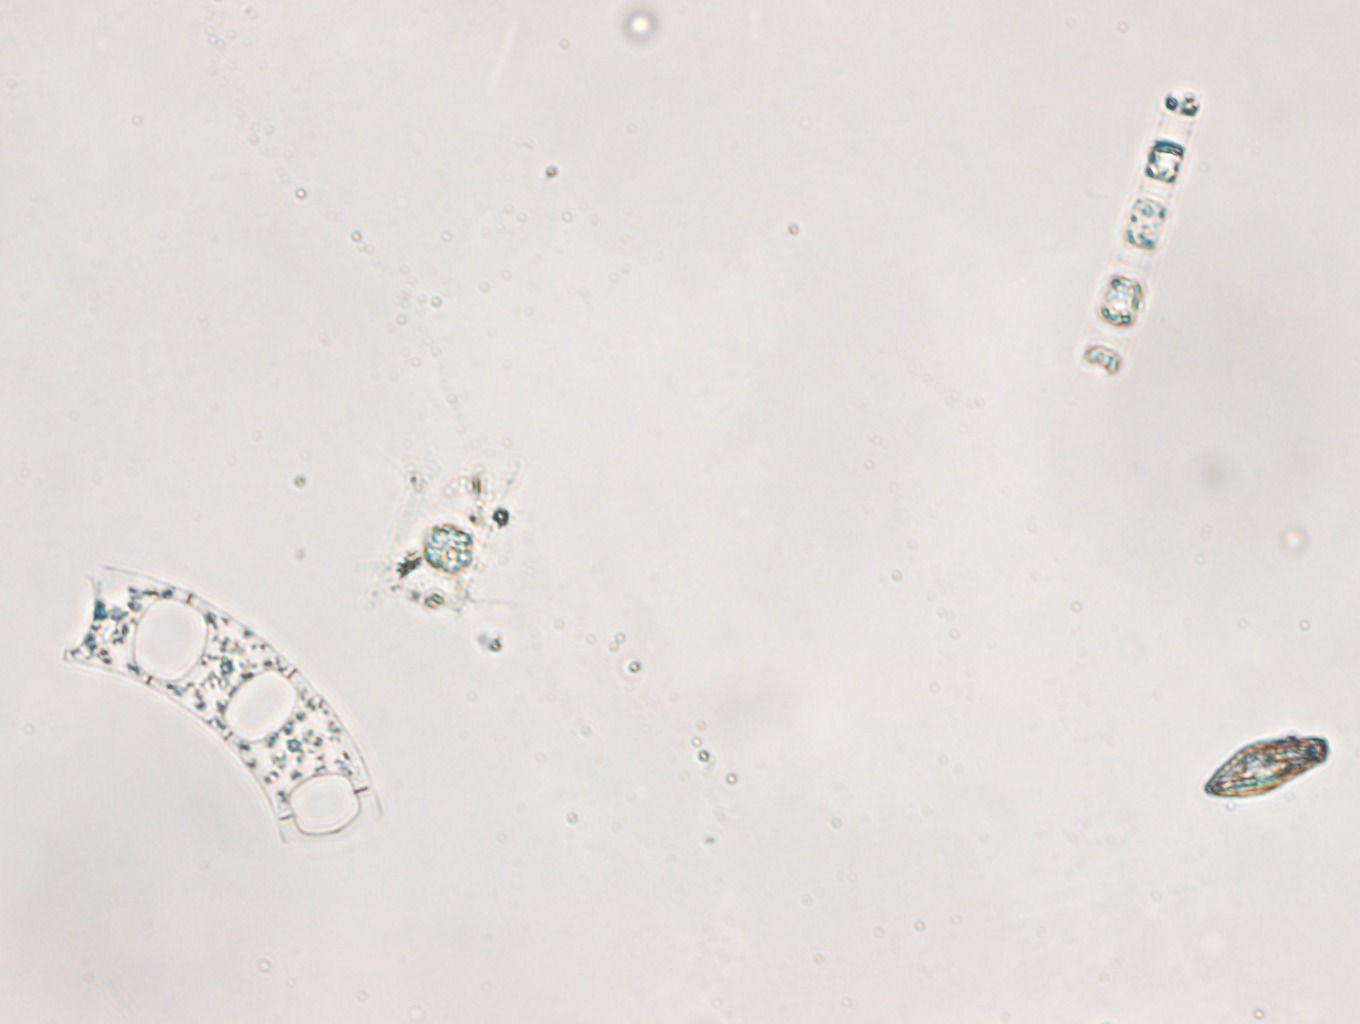chaetoceros: (357, 457, 527, 618)
eucampia: (60, 561, 383, 861)
skeletonema: (1079, 85, 1208, 381)
